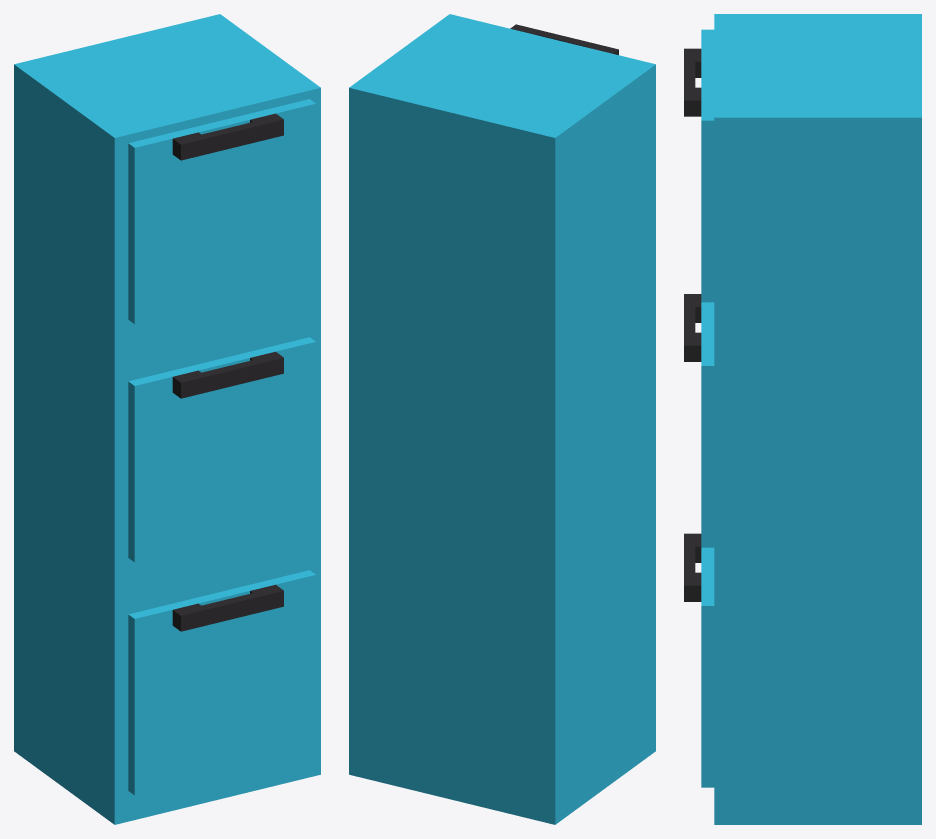
File: small_cabinet.fbx
3 views of the same model, side by side, from view 1: azimuth 30°, elevation 25°; view 2: azimuth 150°, elevation 25°; view 3: azimuth 270°, elevation 25° (orthographic). The views are drawn at different scales.
Parts seen in each view (by area): view 1: small_darwer5; view 2: small_darwer5; view 3: small_darwer5.
Part boxes in pixels (bbox=[...]): small_darwer5: bbox=[14, 14, 320, 824]; small_darwer5: bbox=[349, 14, 655, 824]; small_darwer5: bbox=[684, 14, 921, 824].
Size of the model in its own units: 47.65 by 152 by 46.21.
